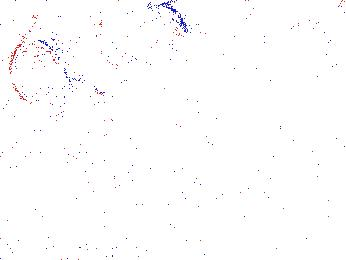moon jellyfish: (98, 1, 185, 68), (9, 39, 70, 106), (258, 24, 343, 70)
